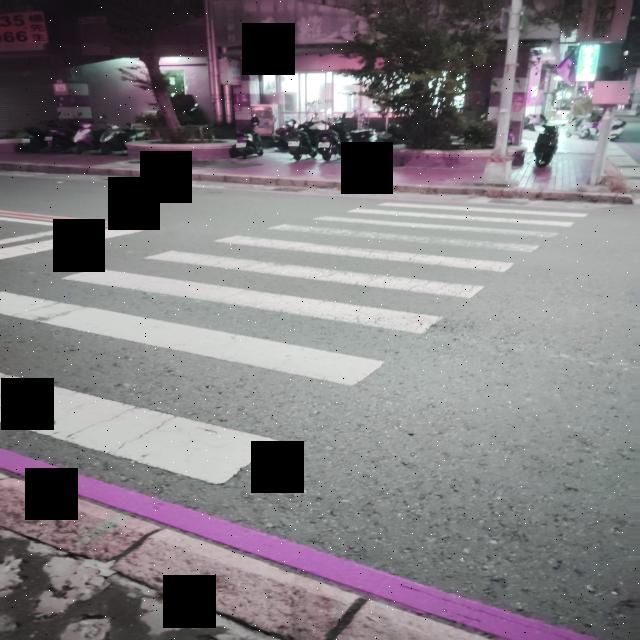zebra crossing: (4, 195, 600, 486)
